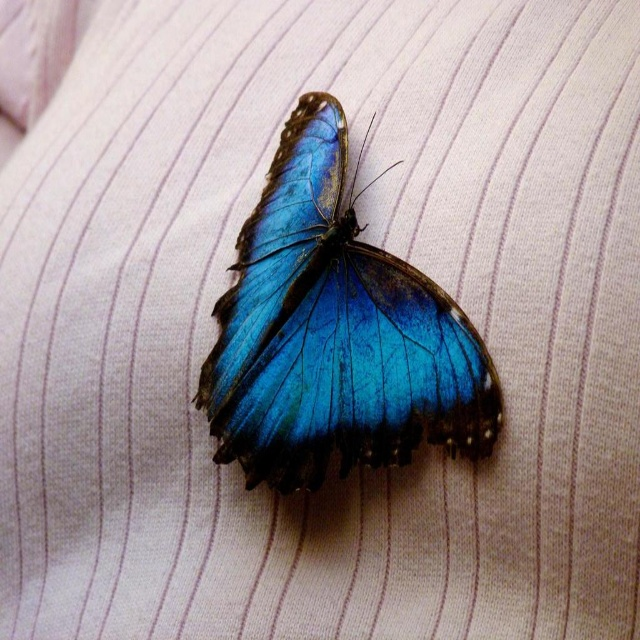Butterfly: (192, 84, 507, 495)
